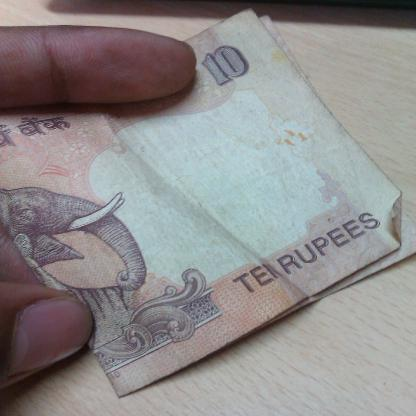Old10Back: (0, 7, 416, 400)
